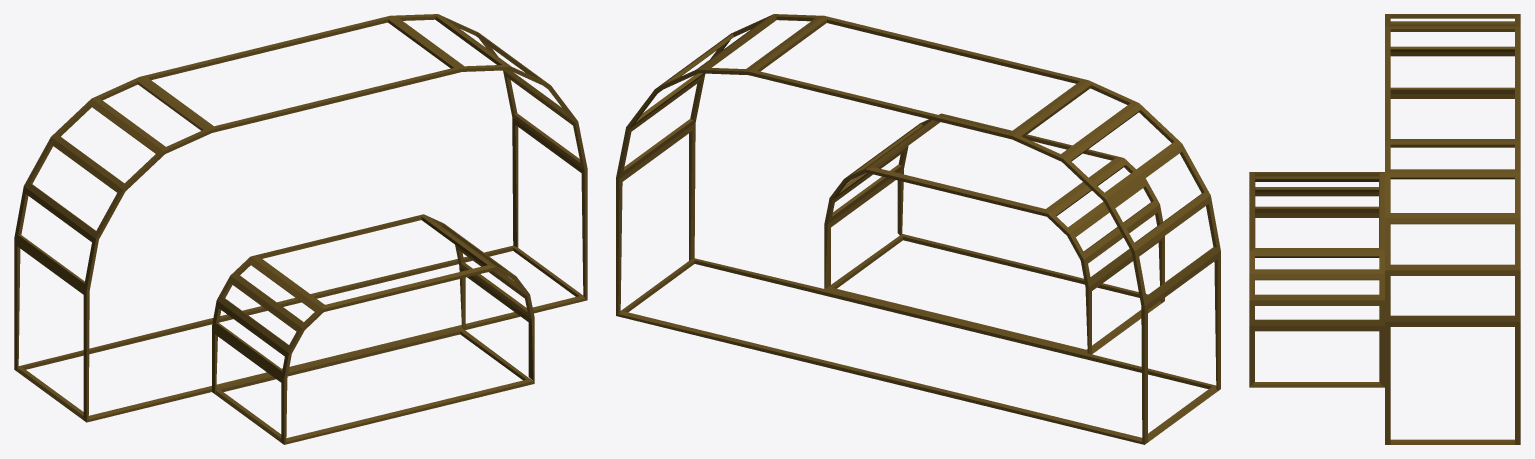
Rendered from double_frame_front_end.glb.
3 views of the same model, side by side, from view 1: azimuth 30°, elevation 25°; view 2: azimuth 150°, elevation 25°; view 3: azimuth 270°, elevation 25° (orthographic). The views are drawn at different scales.
Parts seen in each view (by area): view 1: double_frame_front_end; view 2: double_frame_front_end; view 3: double_frame_front_end.
Part boxes in pixels (box(x1,y1,x2,y2)): double_frame_front_end: box(14, 14, 587, 444); double_frame_front_end: box(616, 14, 1220, 444); double_frame_front_end: box(1249, 14, 1520, 444).
Bounding box in the file's own units: 8 × 4 × 4.
